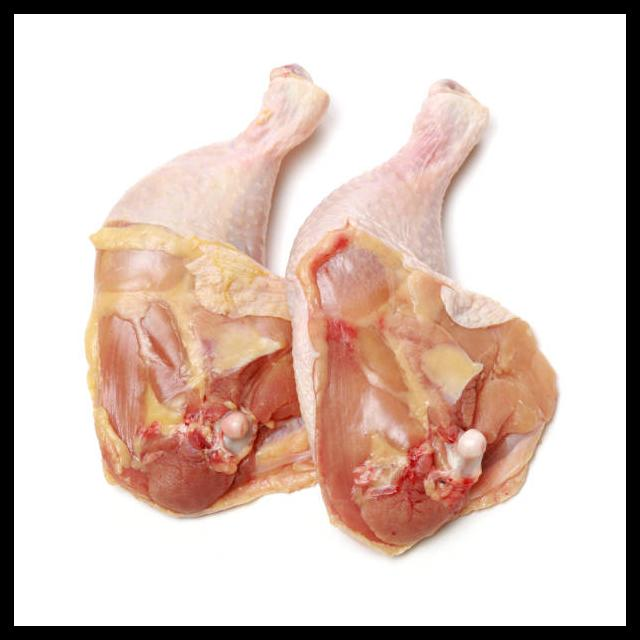chicken: (82, 59, 561, 559)
